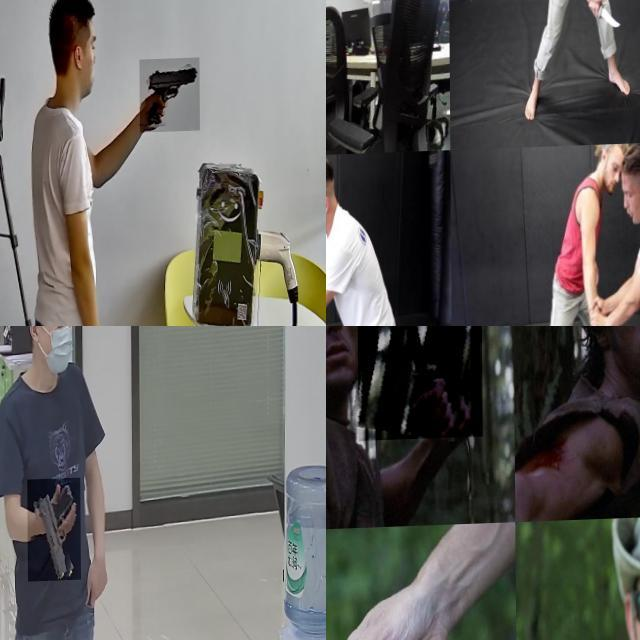-: (357, 326, 482, 442), (585, 2, 621, 36), (326, 62, 337, 101)
gun-knife-thesis - v11 Yolov5 augmented: (27, 479, 81, 584), (140, 62, 200, 136)
